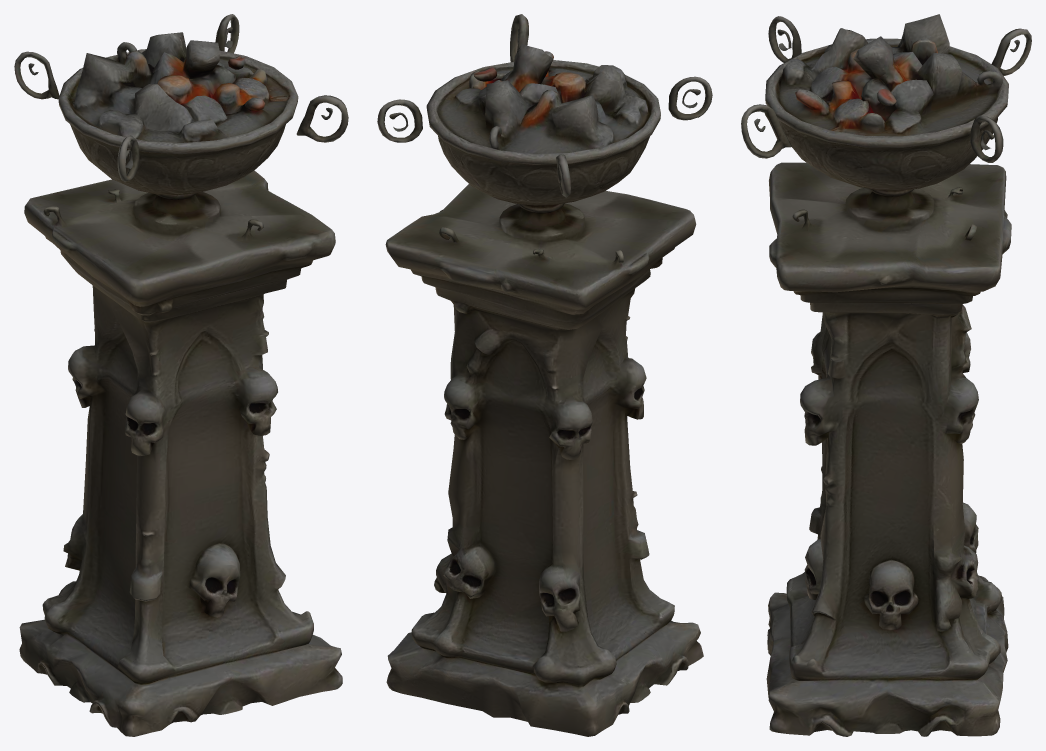
File: brazier.glb
3 renders of one model, left to right at view 1: azimuth 30°, elevation 25°; view 2: azimuth 150°, elevation 25°; view 3: azimuth 270°, elevation 25°, orthographic. The views are drawn at different scales.
Parts seen in each view (by area): view 1: tripo_node_e814cc8b-dbf2-4ca7-a36b-92aab4d0ea35; view 2: tripo_node_e814cc8b-dbf2-4ca7-a36b-92aab4d0ea35; view 3: tripo_node_e814cc8b-dbf2-4ca7-a36b-92aab4d0ea35.
Boxes of the visible parts, x1=… form: tripo_node_e814cc8b-dbf2-4ca7-a36b-92aab4d0ea35: x1=14, y1=14, x2=348, y2=736; tripo_node_e814cc8b-dbf2-4ca7-a36b-92aab4d0ea35: x1=377, y1=14, x2=712, y2=736; tripo_node_e814cc8b-dbf2-4ca7-a36b-92aab4d0ea35: x1=741, y1=14, x2=1031, y2=736.
Bounding box in the file's own units: 0.3784 × 0.9995 × 0.4048.
1 material, 1 textured.
